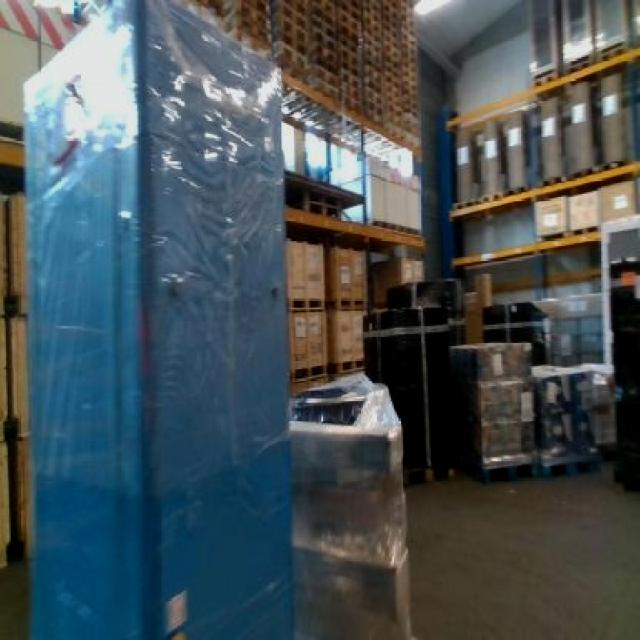pallets: (23, 0, 291, 637), (448, 342, 531, 472), (532, 365, 595, 468)
